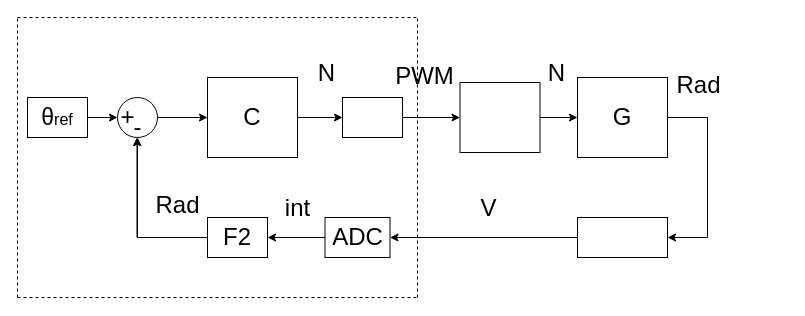
This 805x316 diagram has some shape labels left out. The centre of each missing label's shape, as x and y in pixels:
"Driver /motor" goes at [499,117].
"F1" goes at [372,117].
"Sensor" goes at [622,237].
